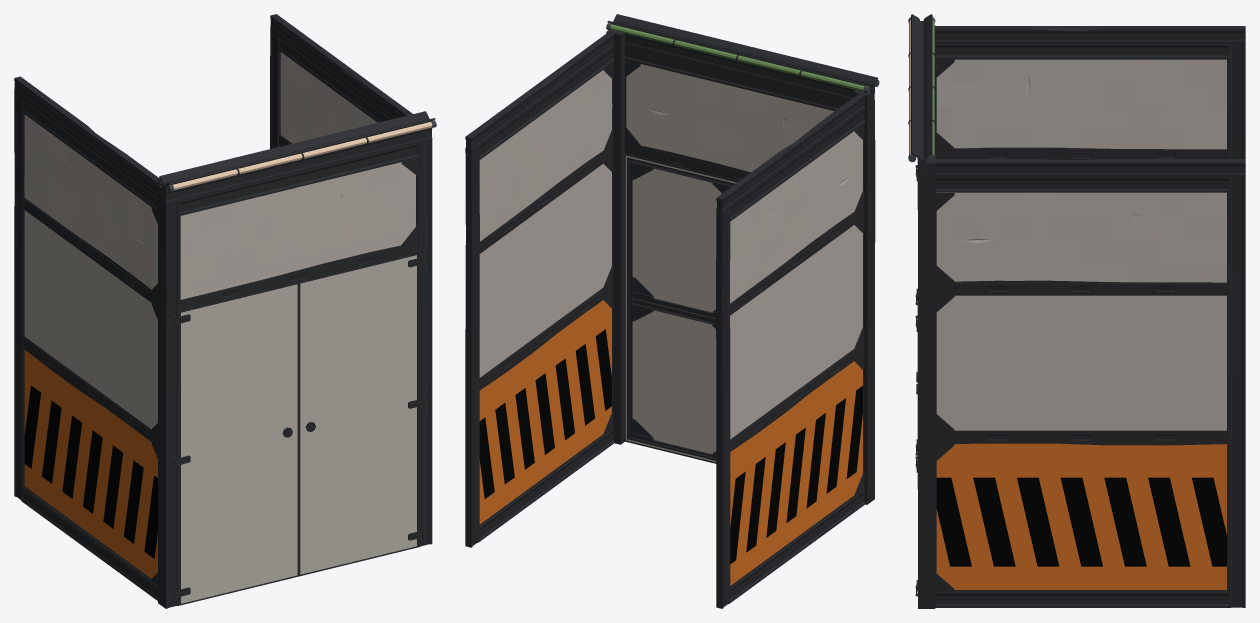
The model's file is SM_Wall_Angle_Door_02.gltf.
The picture shows the model from 3 angles, left to right: view 1: azimuth 30°, elevation 25°; view 2: azimuth 150°, elevation 25°; view 3: azimuth 270°, elevation 25°; orthographic projection. The views are drawn at different scales.
Visible parts, largest first — view 1: SM_Wall_Angle_Door_02, SM_Door_Angle_Right_For_Wall_Door_02, SM_Door_Angle_Left_For_Wall_Door_02; view 2: SM_Wall_Angle_Door_02, SM_Door_Angle_Right_For_Wall_Door_02; view 3: SM_Wall_Angle_Door_02.
Boxes of the visible parts, x1,y1,x2,y2 form: SM_Wall_Angle_Door_02: (14, 14, 436, 608); SM_Door_Angle_Right_For_Wall_Door_02: (299, 253, 425, 576); SM_Door_Angle_Left_For_Wall_Door_02: (174, 282, 298, 605); SM_Wall_Angle_Door_02: (465, 14, 879, 608); SM_Door_Angle_Right_For_Wall_Door_02: (625, 153, 738, 463); SM_Wall_Angle_Door_02: (908, 14, 1245, 608).
Bounding box in the file's own units: 2 × 3.07 × 2.06.
